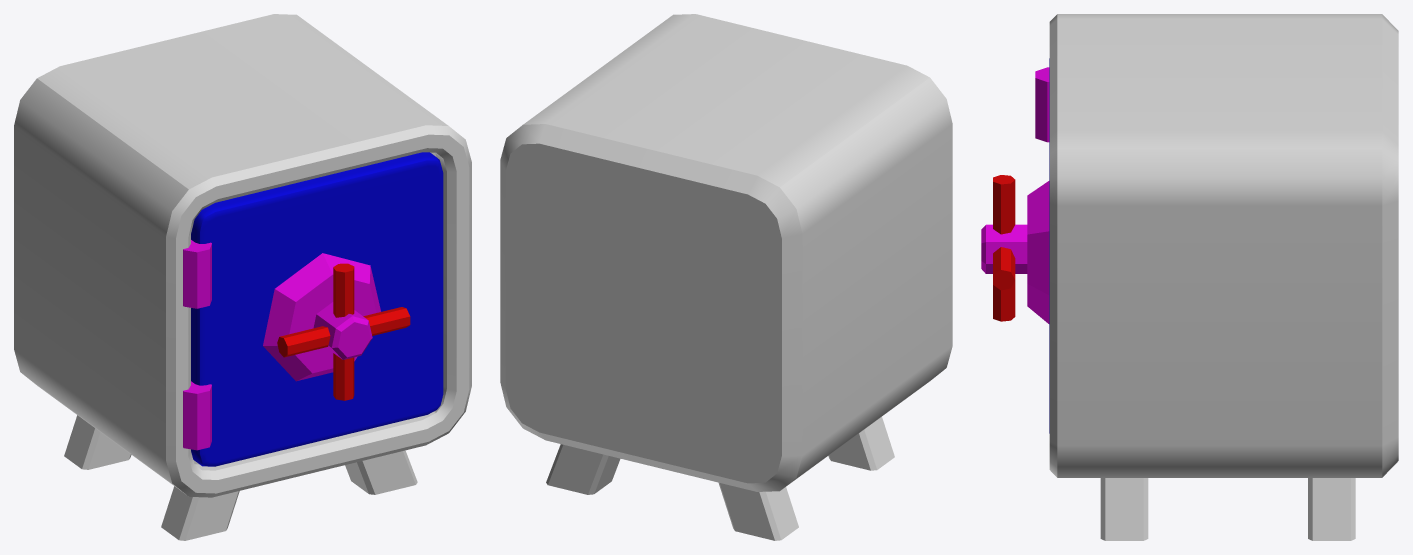
The model's file is Coffrefort_mesh_001.fbx.
The picture shows the model from 3 angles, left to right: view 1: azimuth 30°, elevation 25°; view 2: azimuth 150°, elevation 25°; view 3: azimuth 270°, elevation 25°; orthographic projection. The views are drawn at different scales.
Visible parts, largest first — view 1: polySurface10, polySurface14, polySurface5; view 2: polySurface10; view 3: polySurface10, polySurface5, polySurface14.
Boxes of the visible parts, x1=… form: polySurface10: x1=14, y1=14, x2=471, y2=540; polySurface14: x1=183, y1=152, x2=443, y2=466; polySurface5: x1=263, y1=253, x2=410, y2=400; polySurface10: x1=500, y1=14, x2=952, y2=540; polySurface10: x1=1049, y1=14, x2=1398, y2=540; polySurface5: x1=981, y1=175, x2=1049, y2=323; polySurface14: x1=1035, y1=58, x2=1049, y2=433.
Bounding box in the file's own units: 53.31 × 62.78 × 58.93.
